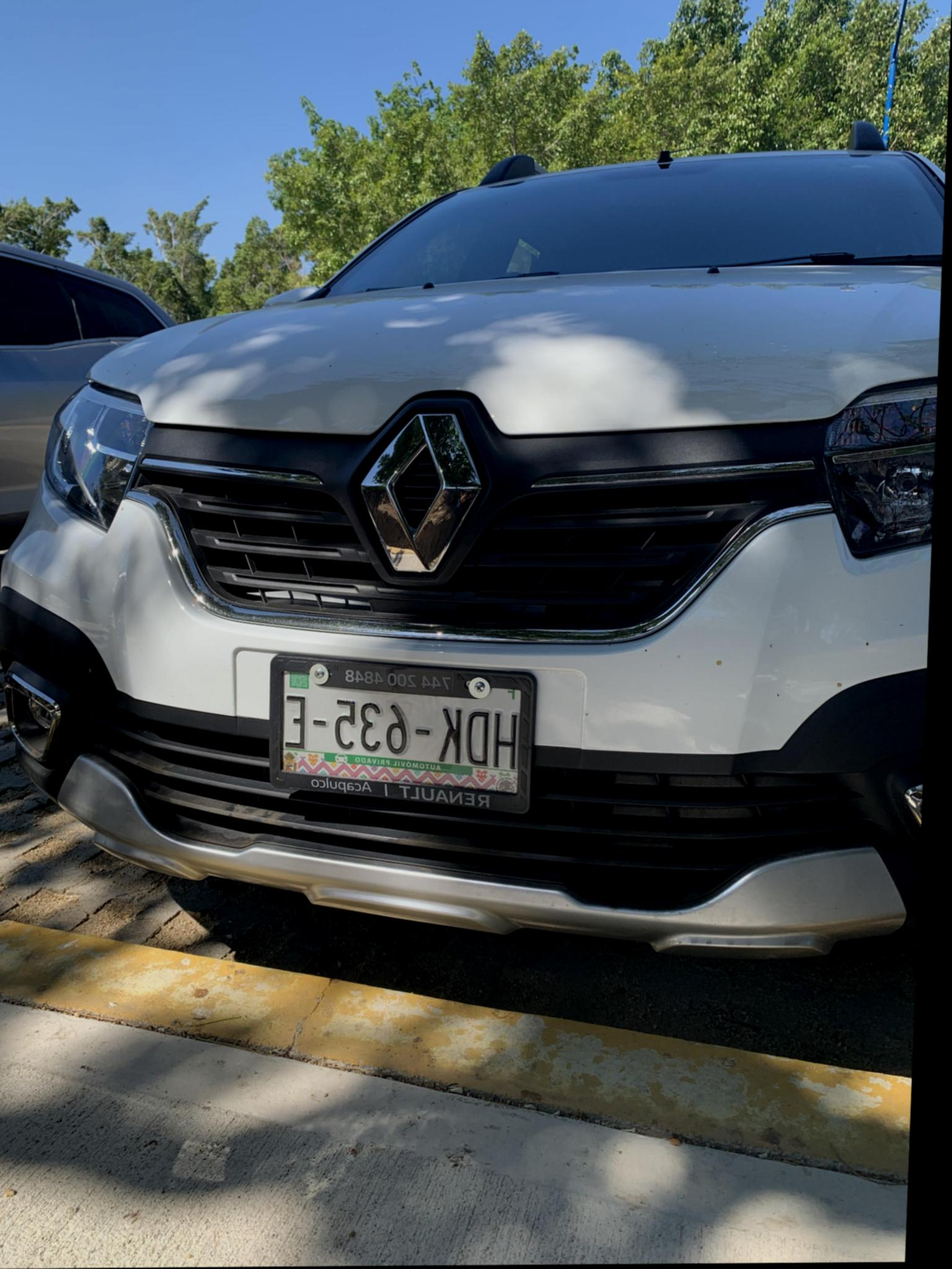License_Plate: (247, 647, 579, 823)
